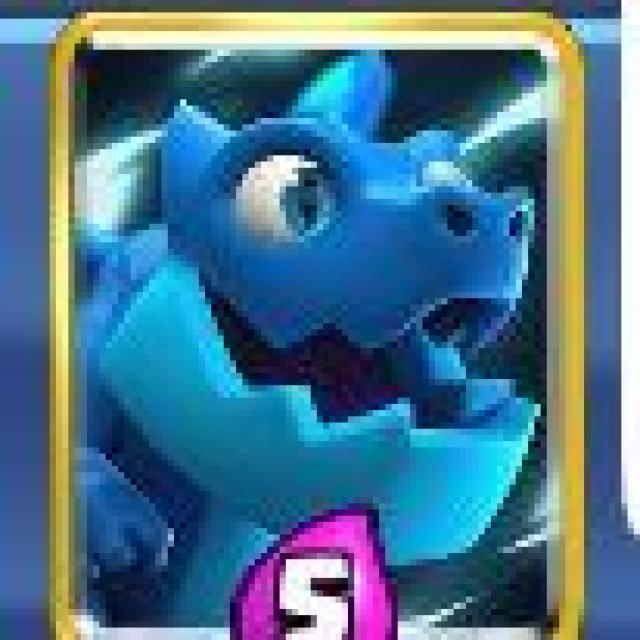Electro_Dragon: (45, 8, 585, 640)
